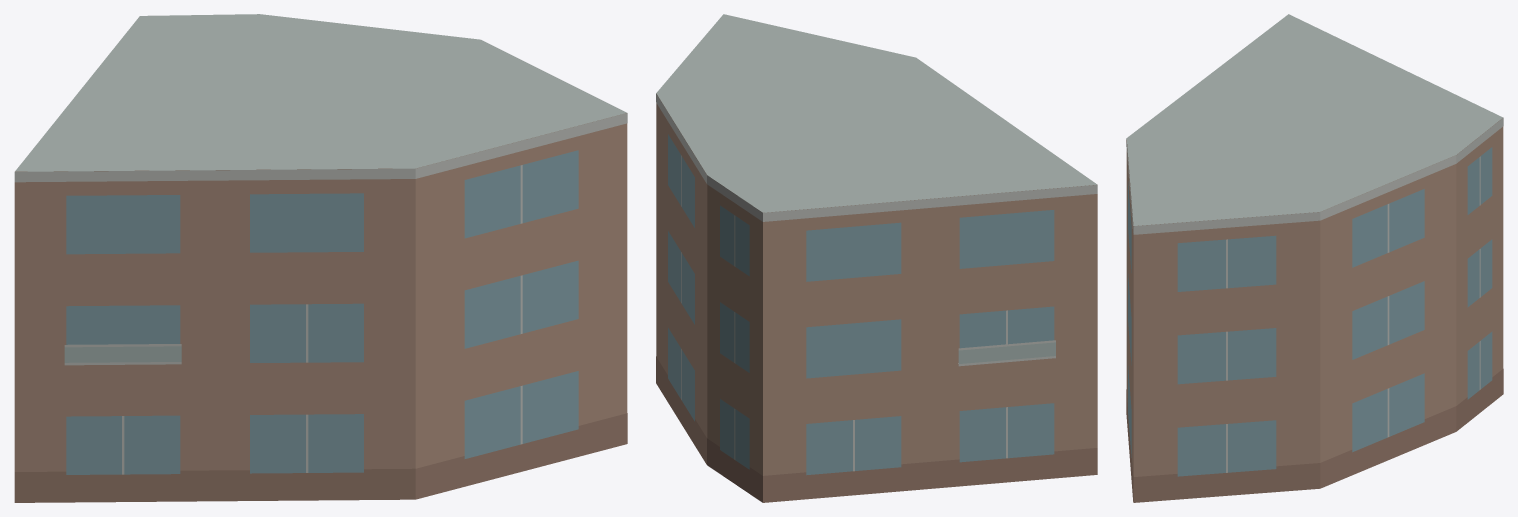
File: survey-upis-32497324.glb
The picture shows the model from 3 angles, left to right: view 1: azimuth 30°, elevation 25°; view 2: azimuth 150°, elevation 25°; view 3: azimuth 270°, elevation 25°; orthographic projection. The views are drawn at different scales.
Parts seen in each view (by area): view 1: survey-upis-32497324.tmp; view 2: survey-upis-32497324.tmp; view 3: survey-upis-32497324.tmp.
Part boxes in pixels (x1,y1,x2,y2): survey-upis-32497324.tmp: (14, 14, 627, 502); survey-upis-32497324.tmp: (656, 14, 1097, 502); survey-upis-32497324.tmp: (1126, 14, 1503, 502).
Bounding box in the file's own units: 12.66 × 7.7 × 9.51.
